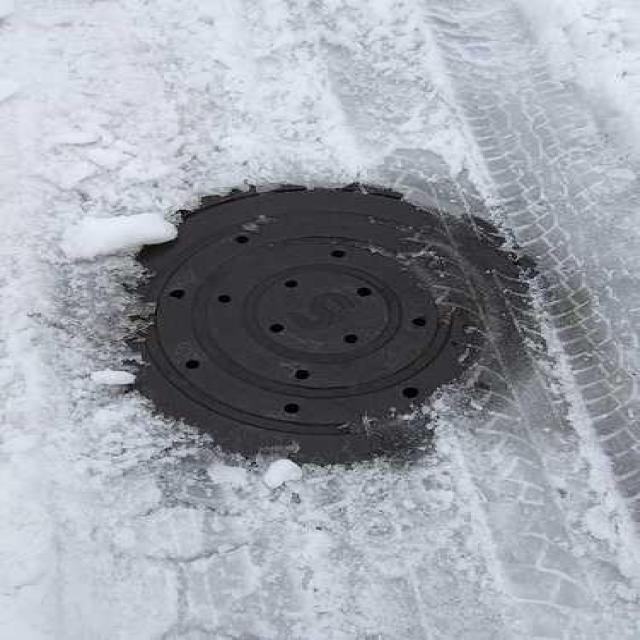manhole: (138, 185, 518, 461)
